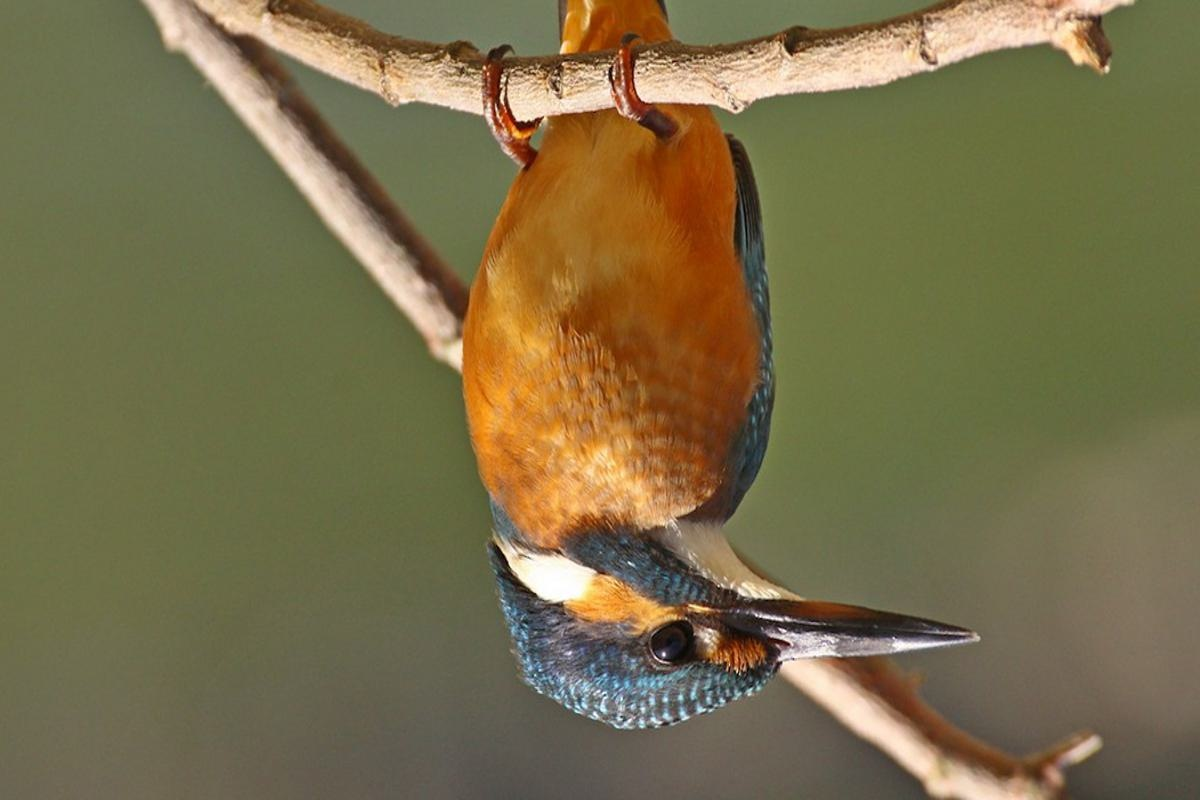kingfisher: (459, 9, 992, 748)
